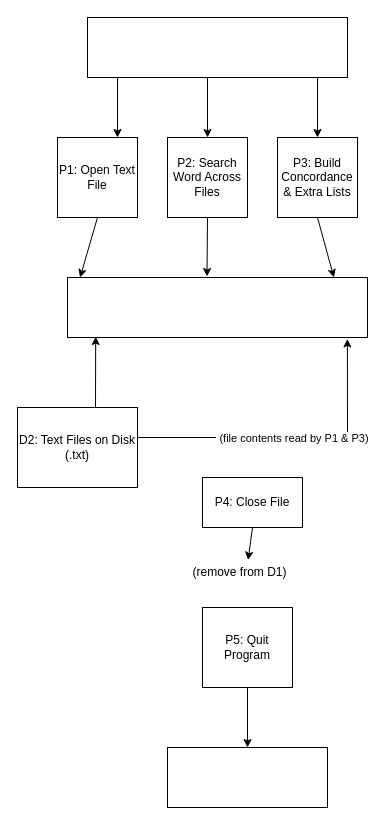
This 385x825 diagram has some shape labels left out. The centre of each missing label's shape, as x and y in pixels:
"D1: Open File Data (filenames, word arrays in memory)" belongs at (217,307).
"D3: Output Result Files (CONCORDANCE.TXT, ExtraLists.txt)" belongs at (247,777).
"USER" belongs at (217,47).
